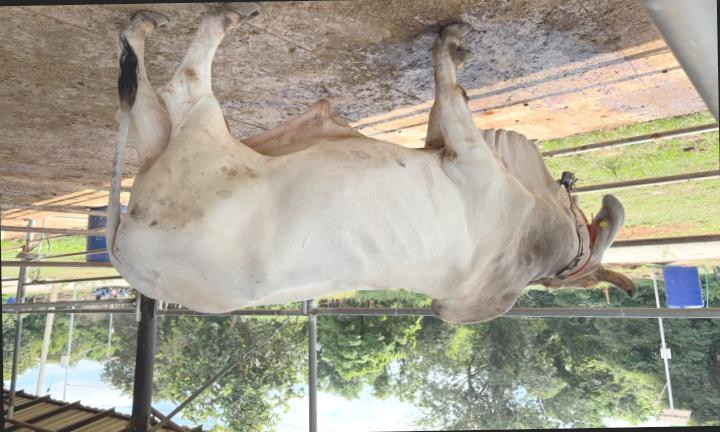Brahman: (106, 2, 635, 323)
